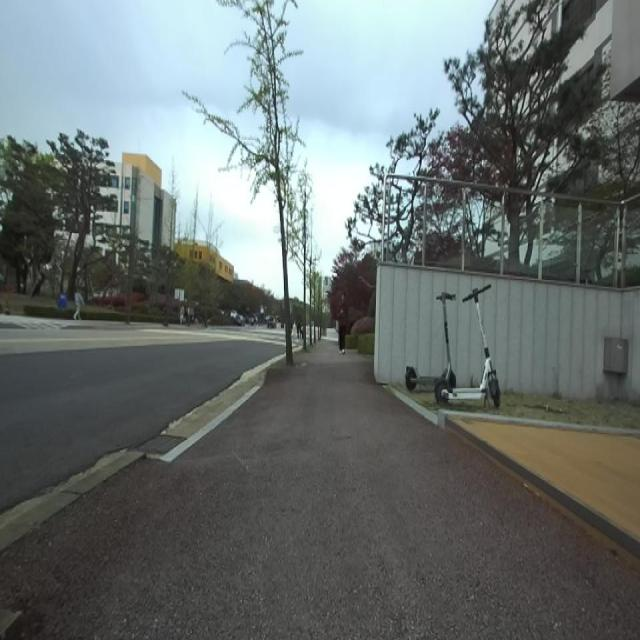sidewalk: (0, 340, 640, 639), (160, 385, 260, 462)
